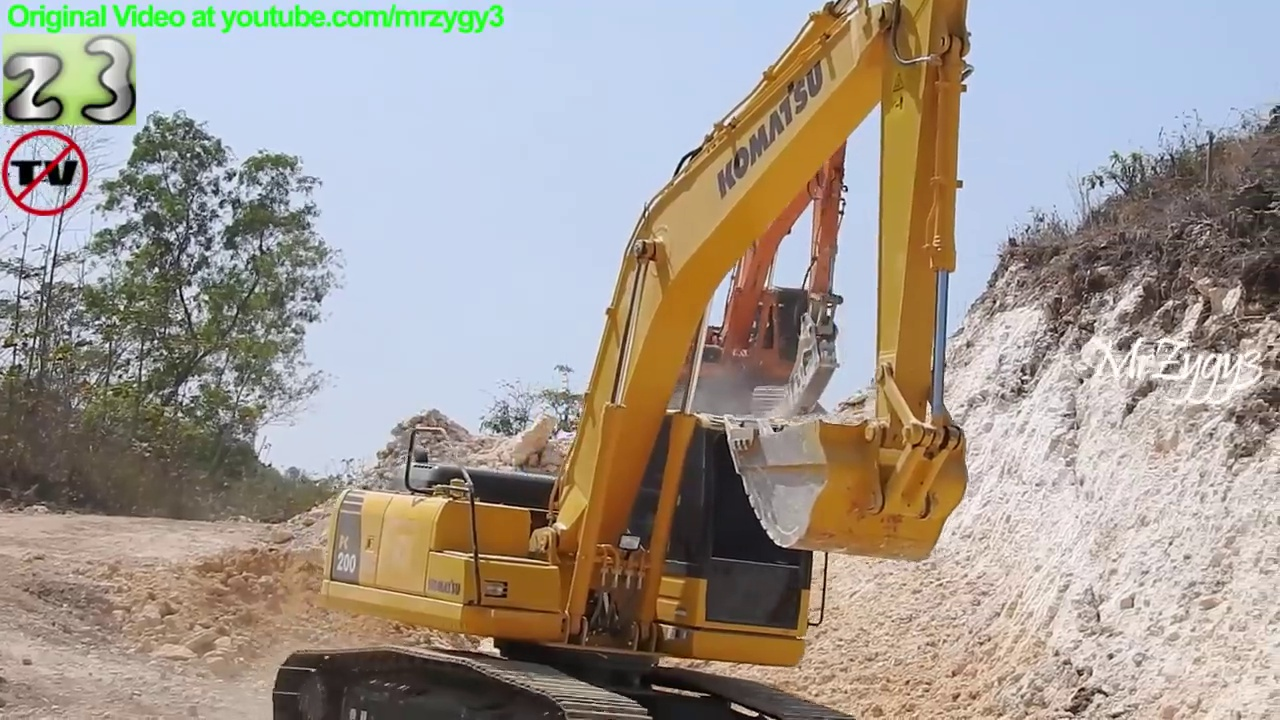excavator: (265, 1, 981, 720), (634, 103, 862, 437)
